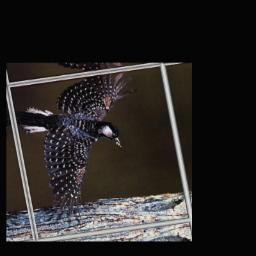Woodpecker: (12, 70, 156, 224)
